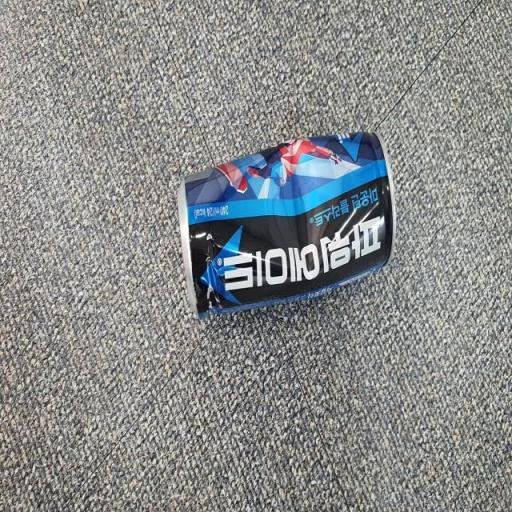metal: (153, 108, 417, 358)
